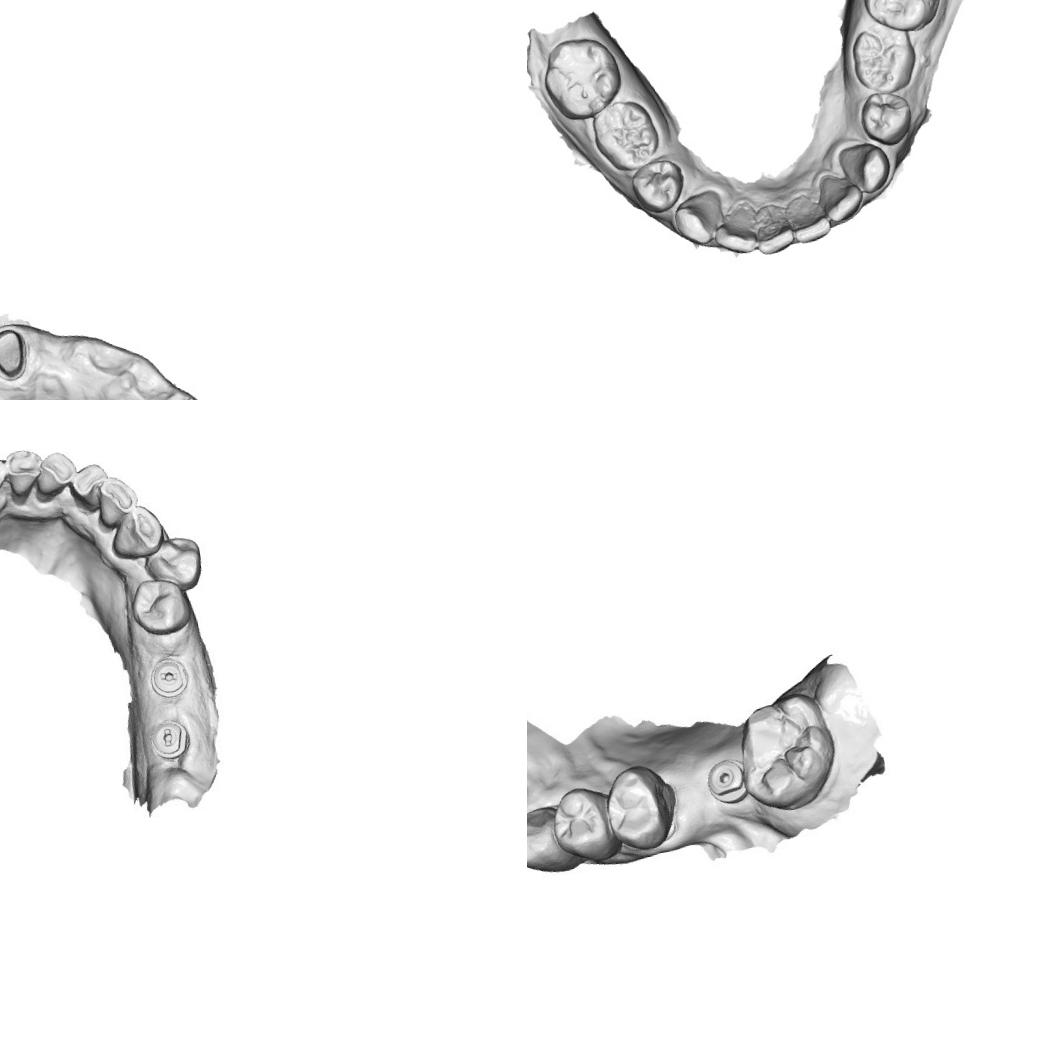canine: (106, 501, 166, 567), (527, 801, 577, 878), (836, 138, 896, 199), (670, 190, 722, 250)
crown: (0, 323, 31, 383)
implant: (694, 748, 748, 810)
implant_minus: (145, 716, 192, 762), (146, 654, 192, 701)
incisor: (710, 203, 764, 261), (778, 192, 834, 247), (92, 470, 140, 532), (750, 198, 798, 258), (816, 174, 868, 228), (64, 460, 112, 516), (32, 446, 81, 499), (2, 444, 45, 498)
molar: (735, 694, 843, 813), (536, 31, 628, 124), (587, 95, 666, 178), (846, 22, 922, 97), (854, 0, 953, 38)
premolar: (550, 781, 624, 864), (604, 766, 676, 850), (124, 573, 196, 640), (626, 153, 690, 218), (855, 86, 920, 150), (143, 532, 207, 594)
